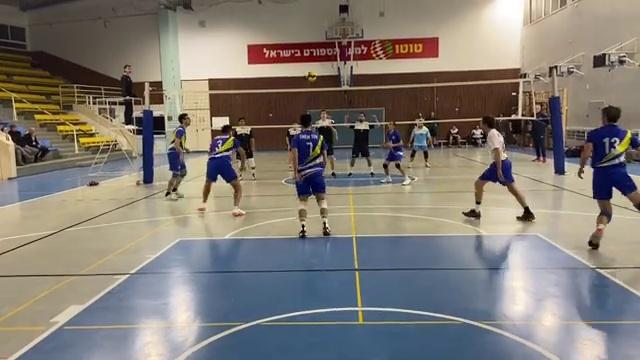ball: (306, 72, 319, 81)
